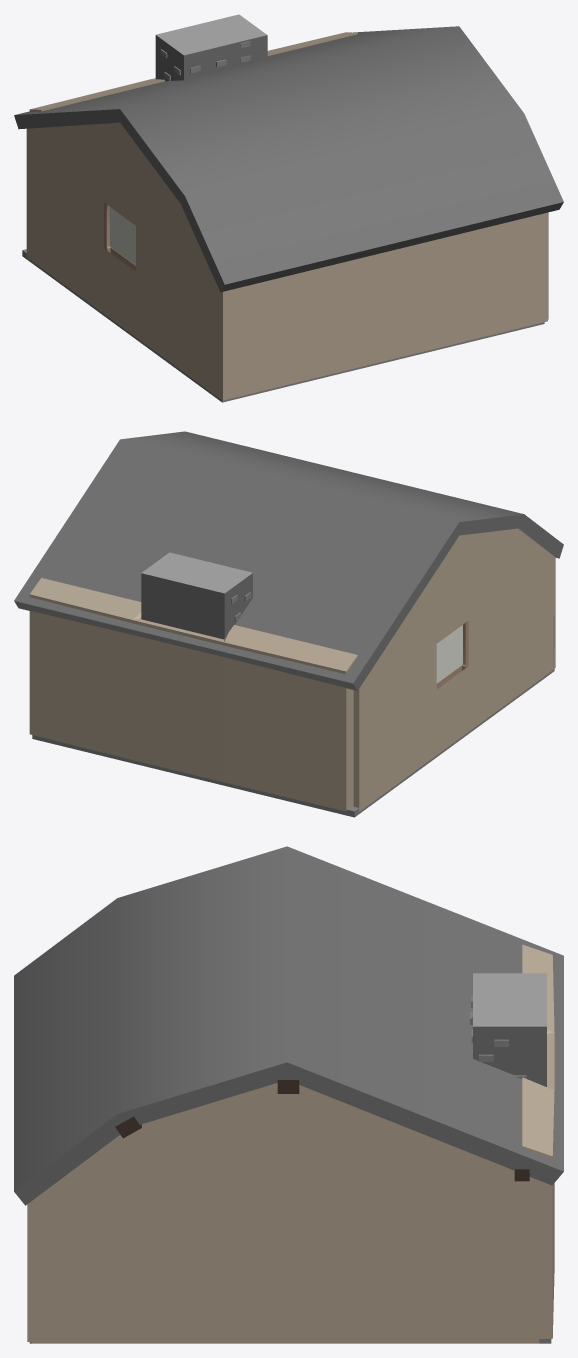
3 renders of one model, top to bottom at view 1: azimuth 30°, elevation 25°; view 2: azimuth 150°, elevation 25°; view 3: azimuth 270°, elevation 25°, orthographic. The views are drawn at different scales.
Parts seen in each view (by area): view 1: roof, wall, polySurface1462, fireplace1, polySurface1480, polySurface1489; view 2: roof, polySurface1489, polySurface1462, fireplace1, polySurface1480; view 3: roof, wall5, fireplace1, polySurface1489, wall.
Boxes of the visible parts, bbox=[...] form: roof: bbox=[14, 26, 563, 292]; wall: bbox=[221, 212, 547, 400]; polySurface1462: bbox=[26, 122, 220, 398]; fireplace1: bbox=[155, 14, 267, 81]; polySurface1480: bbox=[22, 250, 544, 402]; polySurface1489: bbox=[29, 32, 357, 111]; roof: bbox=[14, 431, 563, 690]; polySurface1489: bbox=[29, 578, 357, 811]; polySurface1462: bbox=[353, 528, 553, 811]; fireplace1: bbox=[141, 552, 252, 639]; polySurface1480: bbox=[32, 669, 554, 817]; roof: bbox=[14, 846, 563, 1205]; wall5: bbox=[32, 1083, 539, 1343]; fireplace1: bbox=[470, 973, 546, 1086]; polySurface1489: bbox=[522, 944, 554, 1338]; wall: bbox=[27, 1201, 32, 1341].
Bounding box in the file's own units: 26.33 × 16.47 × 28.33.
